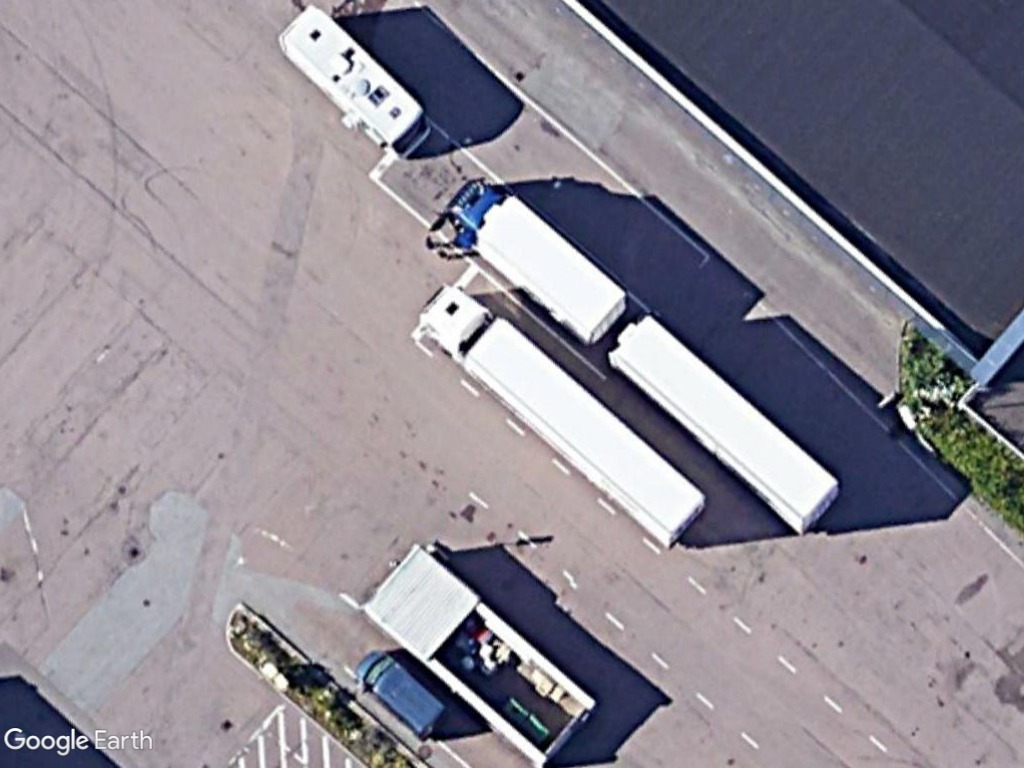longvehicle: (423, 284, 710, 548)
truck: (443, 173, 629, 340)
van: (356, 648, 455, 741)
